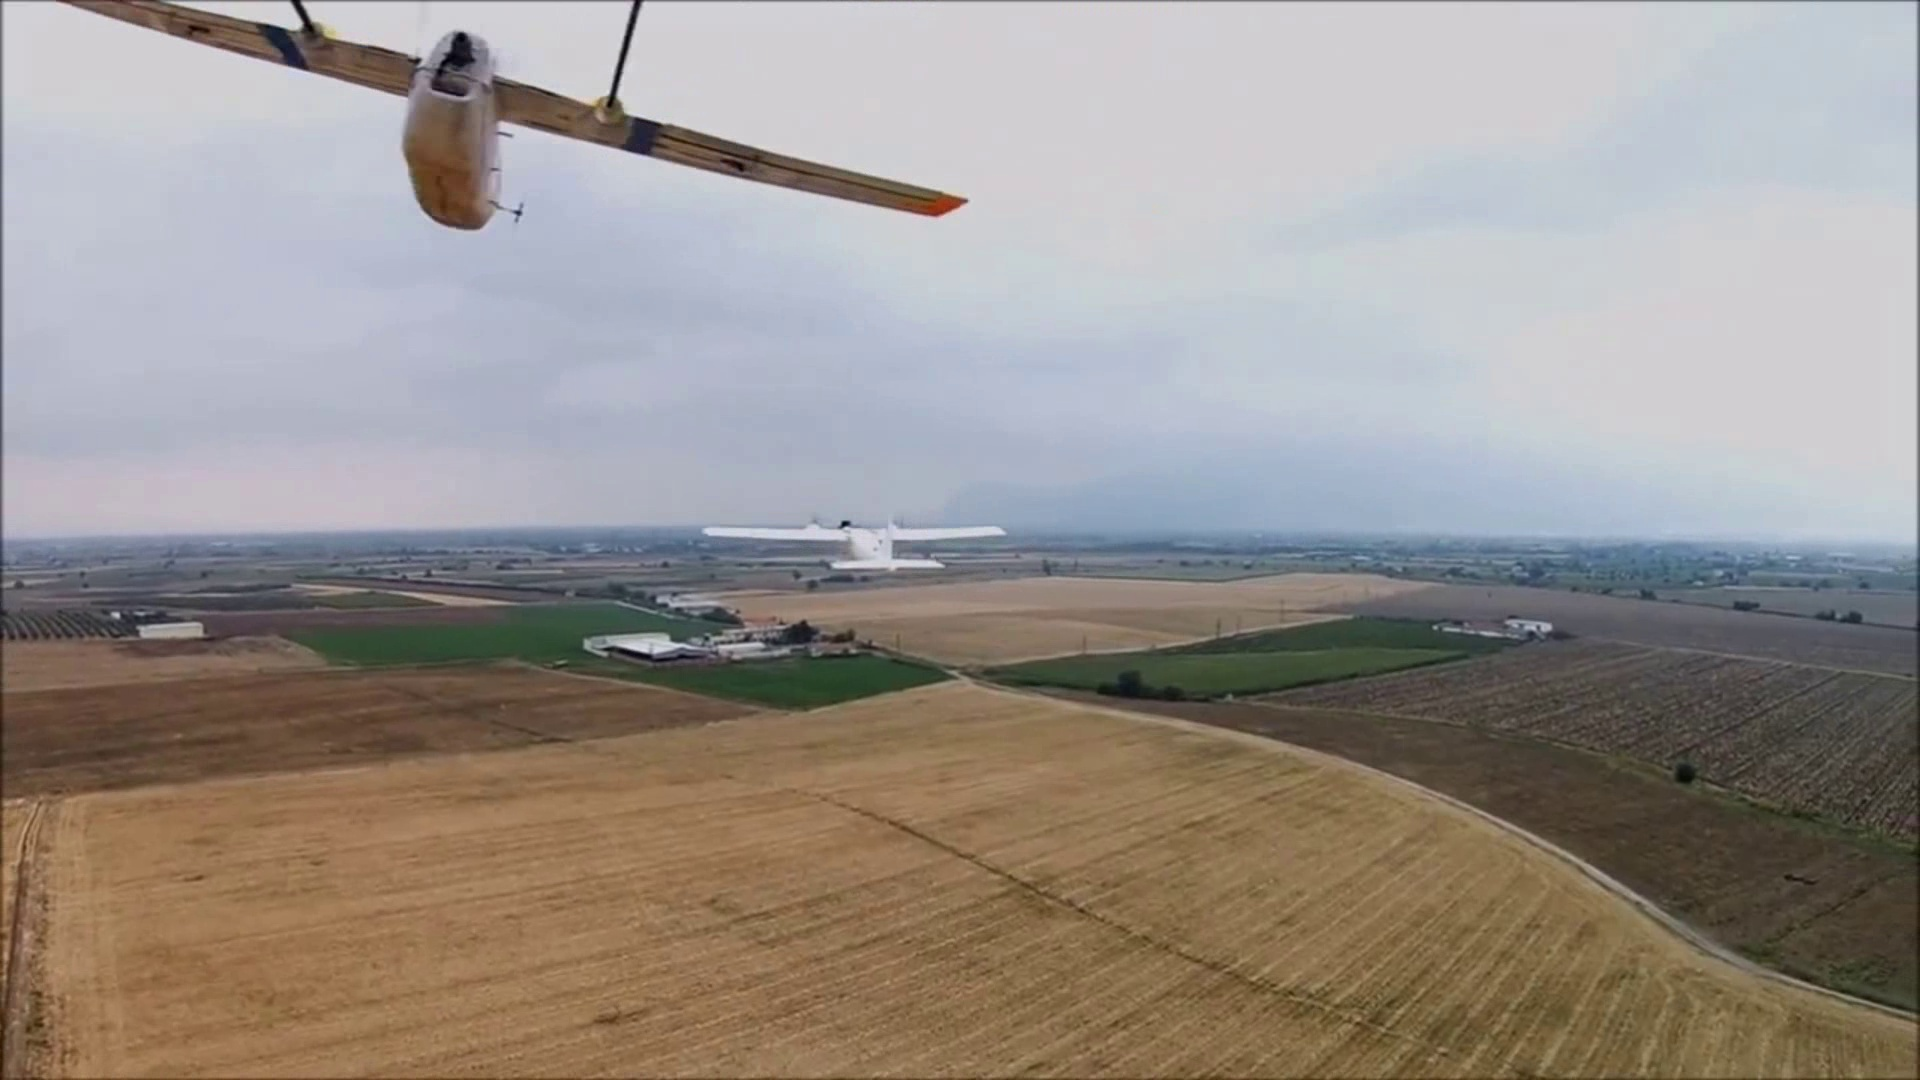airplane: (40, 3, 973, 232)
